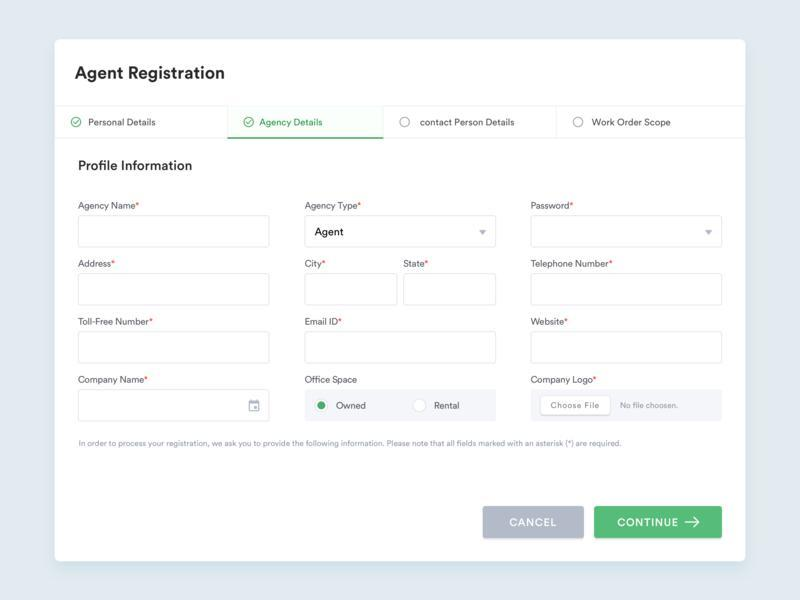button: (596, 508, 725, 539), (484, 507, 585, 539), (541, 398, 611, 415)
dropdown: (303, 214, 499, 251), (531, 215, 722, 250)
icon: (247, 397, 263, 414)
input: (531, 331, 725, 366), (78, 331, 271, 365), (79, 215, 271, 248), (305, 332, 497, 364), (80, 391, 270, 423), (530, 275, 722, 306), (79, 275, 271, 305), (403, 274, 497, 308), (304, 275, 400, 308)
label: (77, 156, 195, 175), (530, 257, 614, 270), (78, 316, 156, 328), (529, 375, 599, 386), (304, 200, 364, 212), (78, 375, 149, 385), (78, 201, 139, 212), (306, 375, 362, 386), (530, 201, 577, 212), (528, 317, 569, 329), (305, 316, 342, 327), (434, 401, 462, 414), (304, 256, 326, 271), (335, 402, 370, 411), (402, 259, 432, 269), (79, 261, 116, 269)
radio: (412, 399, 429, 413), (398, 114, 412, 131), (571, 116, 587, 130), (243, 115, 257, 130), (315, 400, 328, 412), (72, 116, 84, 129)
